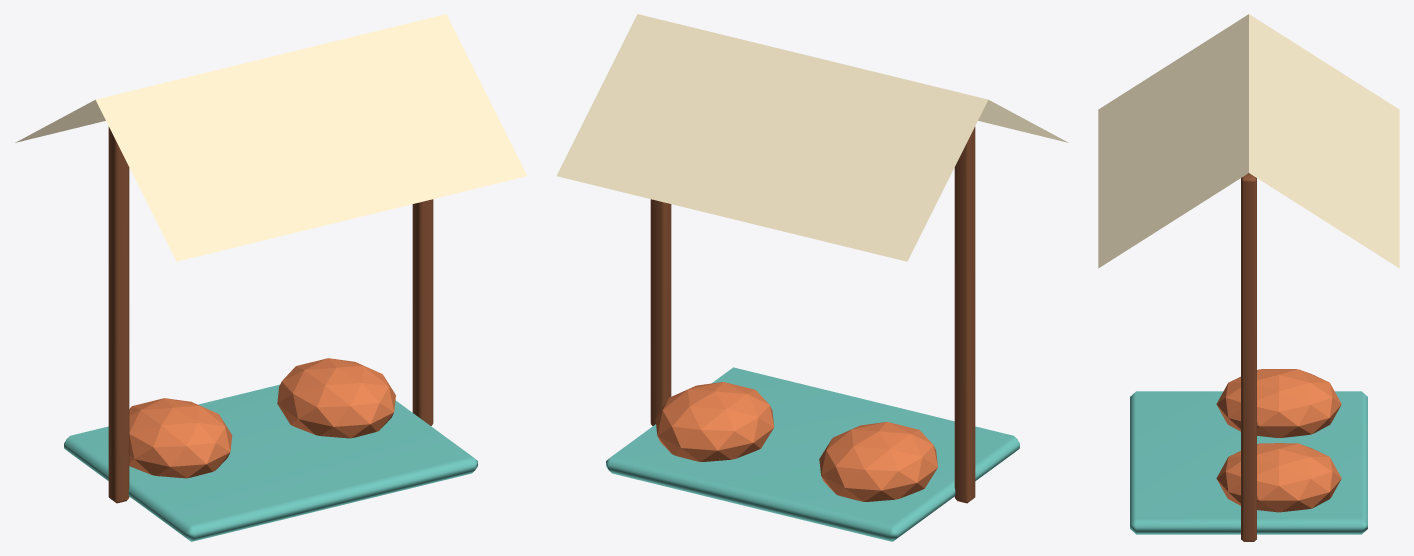
File: camp.glb
3 renders of one model, left to right at view 1: azimuth 30°, elevation 25°; view 2: azimuth 150°, elevation 25°; view 3: azimuth 270°, elevation 25°, orthographic. The views are drawn at different scales.
Parts seen in each view (by area): view 1: Canopy, Rug, Pole, Cushion.001, Cushion, Pole.001; view 2: Canopy, Rug, Pole, Cushion.001, Cushion, Pole.001; view 3: Canopy, Rug, Pole.001, Cushion.001, Cushion.
Part boxes in pixels (x1=…): Canopy: x1=15, y1=14, x2=527, y2=261; Rug: x1=64, y1=384, x2=477, y2=541; Pole: x1=108, y1=126, x2=129, y2=503; Cushion.001: x1=277, y1=358, x2=395, y2=438; Cushion: x1=129, y1=398, x2=232, y2=478; Pole.001: x1=412, y1=199, x2=433, y2=425; Canopy: x1=556, y1=14, x2=1068, y2=261; Rug: x1=606, y1=367, x2=1019, y2=541; Pole: x1=954, y1=126, x2=975, y2=503; Cushion.001: x1=655, y1=382, x2=774, y2=461; Cushion: x1=819, y1=422, x2=937, y2=501; Pole.001: x1=650, y1=199, x2=671, y2=425; Canopy: x1=1098, y1=14, x2=1399, y2=268; Rug: x1=1130, y1=391, x2=1367, y2=534; Pole.001: x1=1241, y1=174, x2=1256, y2=541; Cushion.001: x1=1216, y1=443, x2=1341, y2=512; Cushion: x1=1216, y1=369, x2=1341, y2=437.
Bounding box in the file's own units: 1.5 × 1.66 × 1.2.
